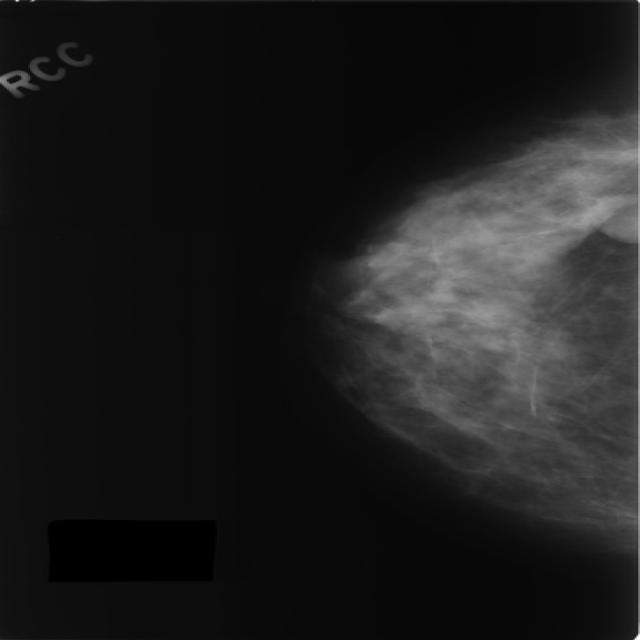tumour: (594, 193, 638, 242)
